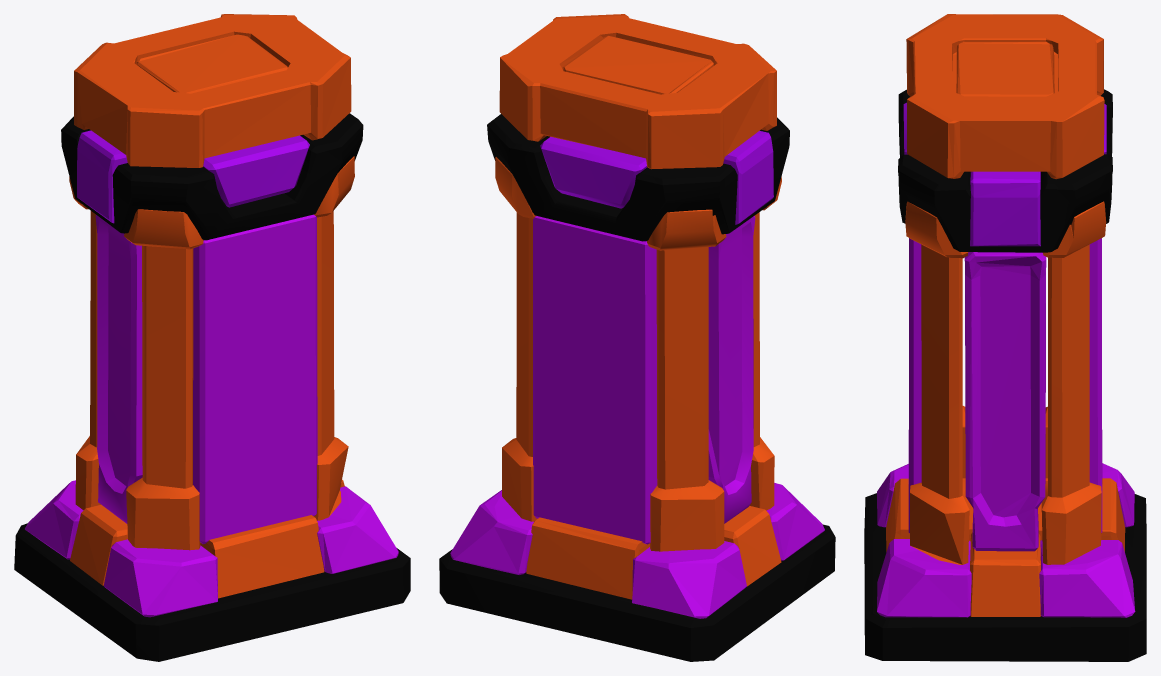
Rendered from pillar.fbx.
The picture shows the model from 3 angles, left to right: view 1: azimuth 30°, elevation 25°; view 2: azimuth 150°, elevation 25°; view 3: azimuth 270°, elevation 25°; orthographic projection.
Parts seen in each view (by area): view 1: mesh_node.021, mesh_node.005, mesh_node.003, mesh_node.024, mesh_node.016, mesh_node.004, mesh_node.017, mesh_node.010, mesh_node.014, mesh_node.018, mesh_node.006, mesh_node.007 (+2 smaller); view 2: mesh_node.002, mesh_node.005, mesh_node.007, mesh_node.024, mesh_node.016, mesh_node.004, mesh_node.017, mesh_node.015, mesh_node.019, mesh_node.018, mesh_node.013, mesh_node.003 (+2 smaller); view 3: mesh_node.005, mesh_node.020, mesh_node.024, mesh_node.015, mesh_node.010, mesh_node.016, mesh_node.017, mesh_node.006, mesh_node.013, mesh_node.008, mesh_node.021, mesh_node.002 (+2 smaller).
Boxes of the visible parts, bbox=[...] form: mesh_node.021: bbox=[193, 214, 317, 544]; mesh_node.005: bbox=[74, 14, 351, 167]; mesh_node.003: bbox=[124, 209, 203, 550]; mesh_node.024: bbox=[14, 523, 410, 661]; mesh_node.016: bbox=[61, 113, 363, 240]; mesh_node.004: bbox=[95, 215, 142, 523]; mesh_node.017: bbox=[70, 479, 344, 598]; mesh_node.010: bbox=[314, 156, 354, 520]; mesh_node.014: bbox=[104, 539, 217, 617]; mesh_node.018: bbox=[203, 135, 309, 207]; mesh_node.006: bbox=[317, 486, 398, 573]; mesh_node.007: bbox=[69, 176, 100, 510]; mesh_node.002: bbox=[533, 216, 657, 544]; mesh_node.005: bbox=[499, 14, 776, 169]; mesh_node.007: bbox=[647, 209, 726, 551]; mesh_node.024: bbox=[439, 524, 835, 661]; mesh_node.016: bbox=[487, 114, 789, 241]; mesh_node.004: bbox=[708, 216, 755, 523]; mesh_node.017: bbox=[526, 506, 781, 599]; mesh_node.015: bbox=[495, 157, 537, 521]; mesh_node.019: bbox=[632, 541, 746, 618]; mesh_node.018: bbox=[540, 136, 647, 208]; mesh_node.013: bbox=[450, 490, 533, 574]; mesh_node.003: bbox=[749, 176, 781, 510]; mesh_node.005: bbox=[906, 14, 1104, 179]; mesh_node.020: bbox=[964, 252, 1046, 551]; mesh_node.024: bbox=[864, 493, 1146, 661]; mesh_node.015: bbox=[1041, 201, 1106, 564]; mesh_node.010: bbox=[905, 201, 969, 564]; mesh_node.016: bbox=[898, 89, 1112, 252]; mesh_node.017: bbox=[886, 478, 1125, 616]; mesh_node.006: bbox=[877, 539, 971, 617]; mesh_node.013: bbox=[1039, 540, 1135, 617]; mesh_node.008: bbox=[970, 171, 1040, 246]; mesh_node.021: bbox=[908, 238, 921, 533]; mesh_node.002: bbox=[1089, 238, 1102, 532].
Size of the model in its own units: 55.27 by 99.8 by 48.44.
